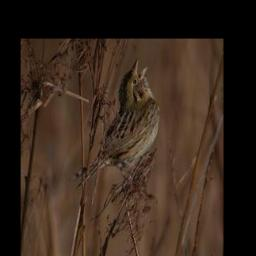Sparrow: (66, 57, 161, 190)
